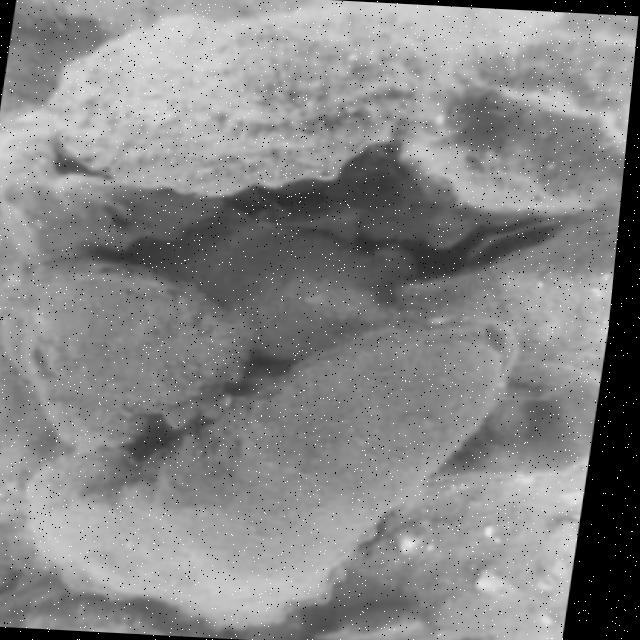Oyster-Closed: (97, 323, 520, 613)
Oyster-Indeterminate: (40, 8, 448, 203), (0, 262, 253, 449), (403, 206, 620, 389), (336, 480, 571, 640), (199, 227, 426, 354), (451, 31, 636, 133)
